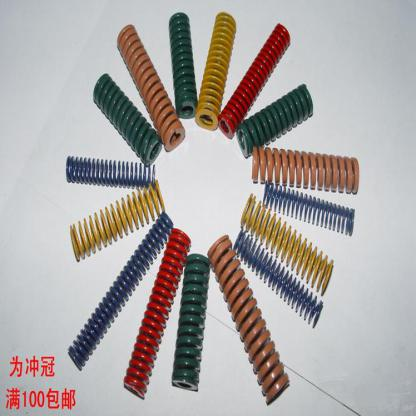FOD: (64, 210, 174, 372), (208, 231, 290, 407), (120, 222, 192, 404), (240, 191, 336, 297), (232, 228, 326, 331), (116, 21, 187, 154), (216, 21, 292, 140), (68, 180, 166, 263), (90, 68, 165, 163), (235, 82, 314, 161), (170, 249, 213, 393), (249, 142, 361, 196), (263, 178, 357, 240), (194, 8, 237, 138), (168, 8, 198, 123), (64, 156, 156, 193)
